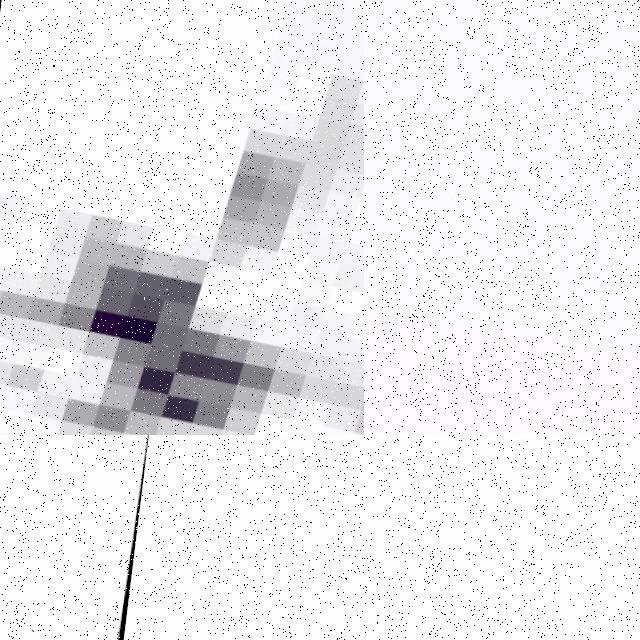drone: (0, 0, 364, 435), (0, 435, 152, 640), (364, 544, 640, 640)
